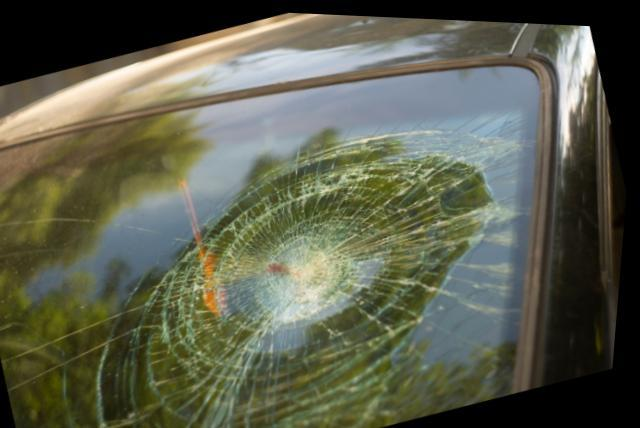glass shatter: (0, 59, 541, 428)
